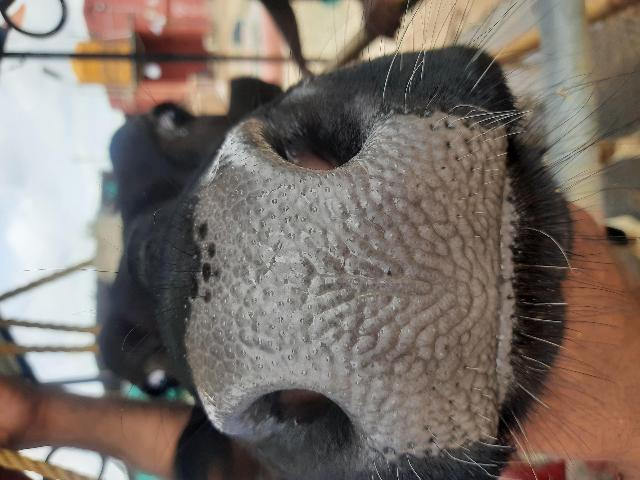Muzzle: (202, 178, 496, 384)
